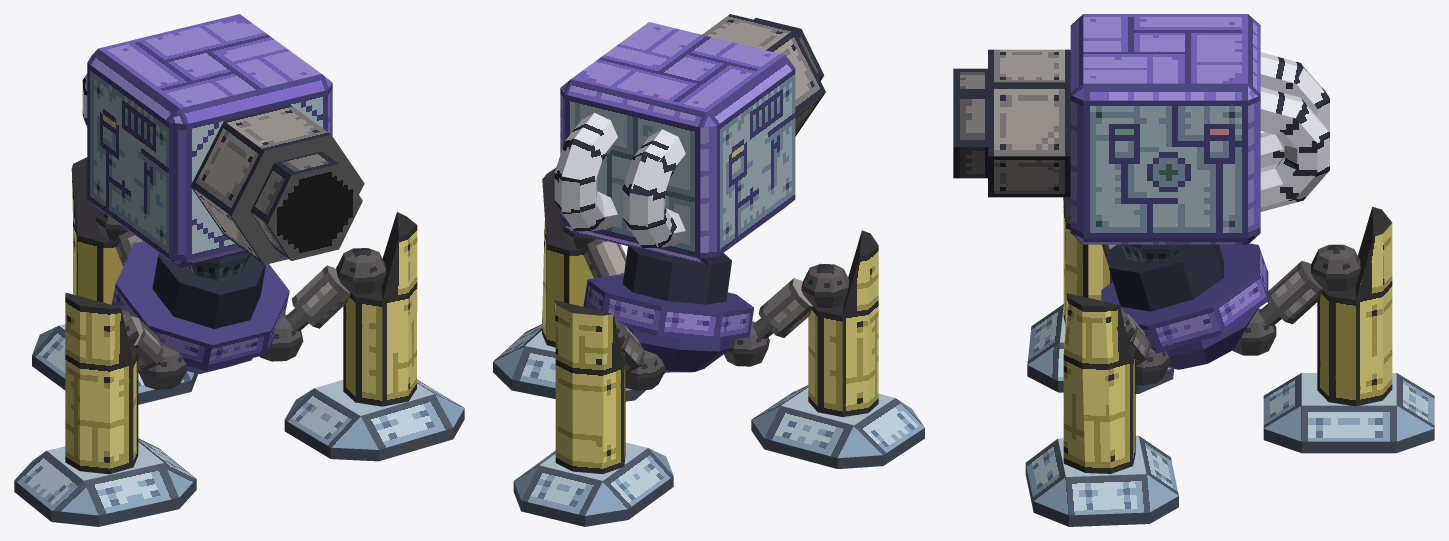
Rendered from TurretEnemy.gltf.
3 renders of one model, left to right at view 1: azimuth 30°, elevation 25°; view 2: azimuth 150°, elevation 25°; view 3: azimuth 270°, elevation 25°, orthographic. The views are drawn at different scales.
Visible parts, largest first — view 1: Base, Leg (×3), Foot (×3), Outter, Median, Inner, cylinder, Cover (×2), Oink (×2), Joint (×2), sphere; view 2: Base, Leg (×3), Foot (×3), Pipe (×2), Median, cylinder, Cover (×3), Outter, LowerBase, Joint (×2), Oink, Inner; view 3: Base, Leg (×3), Foot (×3), Outter, Pipe (×2), Median, cylinder, Inner, Cover (×2), Joint (×2), Oink, LowerBase (+1 smaller).
Part boxes in pixels (x1,y1,x2,y2): Base: [87, 14, 332, 267]; Leg (×3): [65, 157, 417, 474]; Foot (×3): [14, 324, 464, 526]; Outter: [190, 104, 364, 264]; Median: [111, 241, 289, 368]; Inner: [250, 151, 362, 260]; cylinder: [152, 253, 265, 328]; Cover (×2): [131, 265, 350, 371]; Oink (×2): [95, 210, 386, 294]; Joint (×2): [138, 314, 303, 389]; sphere: [186, 252, 250, 281]; Base: [560, 22, 795, 265]; Leg (×3): [542, 168, 878, 473]; Foot (×3): [493, 324, 924, 526]; Pipe (×2): [554, 113, 685, 247]; Median: [583, 274, 753, 341]; cylinder: [623, 246, 731, 304]; Cover (×3): [581, 238, 812, 373]; Outter: [702, 14, 825, 136]; LowerBase: [629, 329, 732, 372]; Joint (×2): [625, 321, 769, 390]; Oink: [801, 263, 849, 307]; Inner: [754, 18, 824, 80]; Base: [1070, 14, 1260, 244]; Leg (×3): [1063, 197, 1392, 473]; Foot (×3): [1025, 304, 1434, 526]; Outter: [988, 49, 1070, 197]; Pipe (×2): [1260, 52, 1329, 211]; Median: [1101, 243, 1268, 353]; cylinder: [1109, 244, 1223, 311]; Inner: [953, 68, 987, 178]; Cover (×2): [1126, 261, 1322, 365]; Joint (×2): [1135, 308, 1276, 385]; Oink: [1311, 244, 1360, 290]; LowerBase: [1166, 309, 1257, 369].
Size of the model in its own units: 2.38 by 2.05 by 2.37.
1 material, 1 textured.
